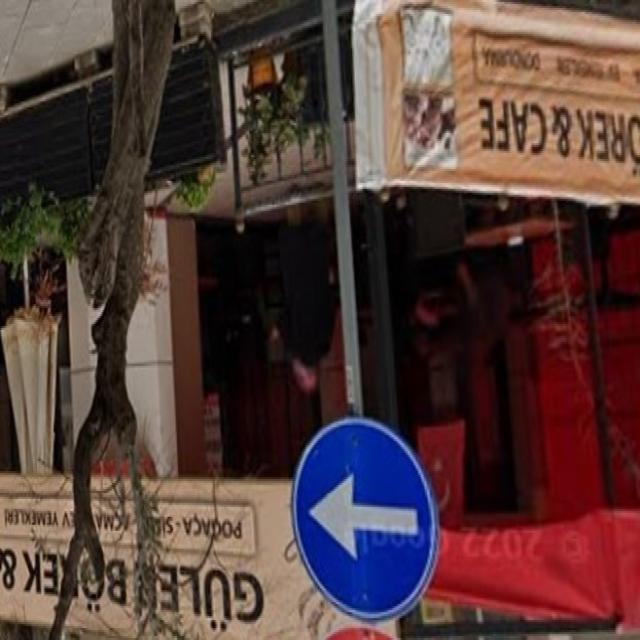Turn Left: (285, 416, 440, 620)
